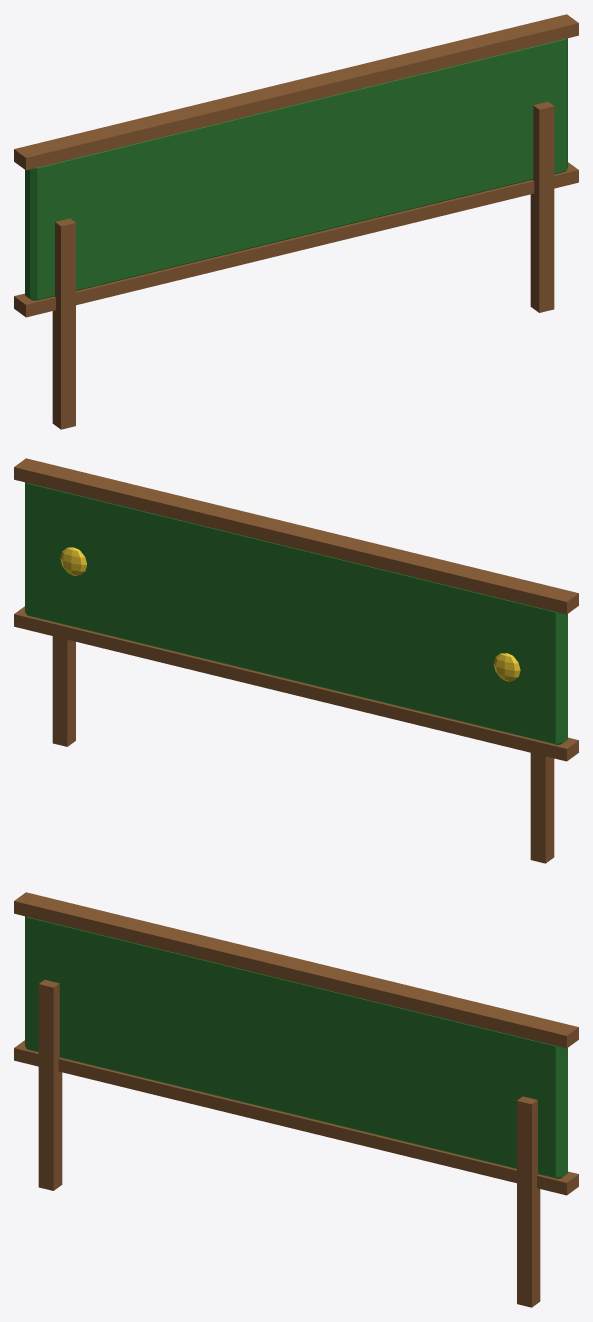
The model's file is Market_Tabela.fbx.
3 renders of one model, top to bottom at view 1: azimuth 30°, elevation 25°; view 2: azimuth 150°, elevation 25°; view 3: azimuth 330°, elevation 25°, orthographic.
Visible parts, largest first — view 1: Market_Tabela; view 2: Market_Tabela; view 3: Market_Tabela.
Boxes of the visible parts, x1,y1,x2,y2 form: Market_Tabela: (14,14,578,429); Market_Tabela: (14,458,578,863); Market_Tabela: (14,892,578,1307).
Bounding box in the file's own units: 370 × 176 × 23.
